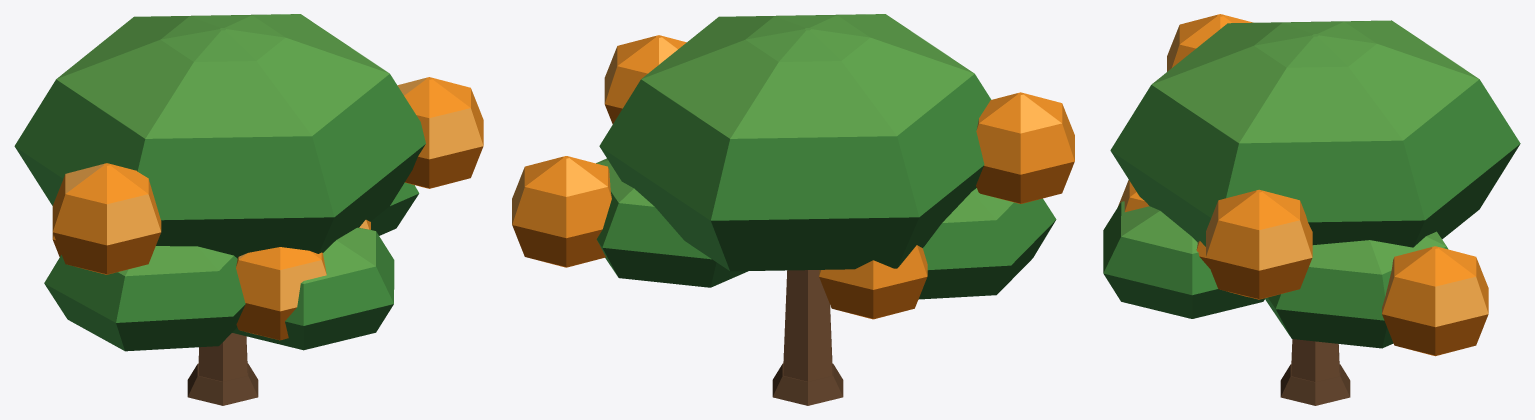
The model's file is orange-4.glb.
The picture shows the model from 3 angles, left to right: view 1: azimuth 30°, elevation 25°; view 2: azimuth 150°, elevation 25°; view 3: azimuth 270°, elevation 25°; orthographic projection.
Parts seen in each view (by area): view 1: orange-4; view 2: orange-4; view 3: orange-4.
Boxes of the visible parts, x1,y1,x2,y2 form: orange-4: (14, 14, 483, 405); orange-4: (512, 14, 1074, 405); orange-4: (1103, 14, 1520, 405).
Bounding box in the file's own units: 0.7524 × 0.57 × 0.6097.
1 material, 1 textured.
